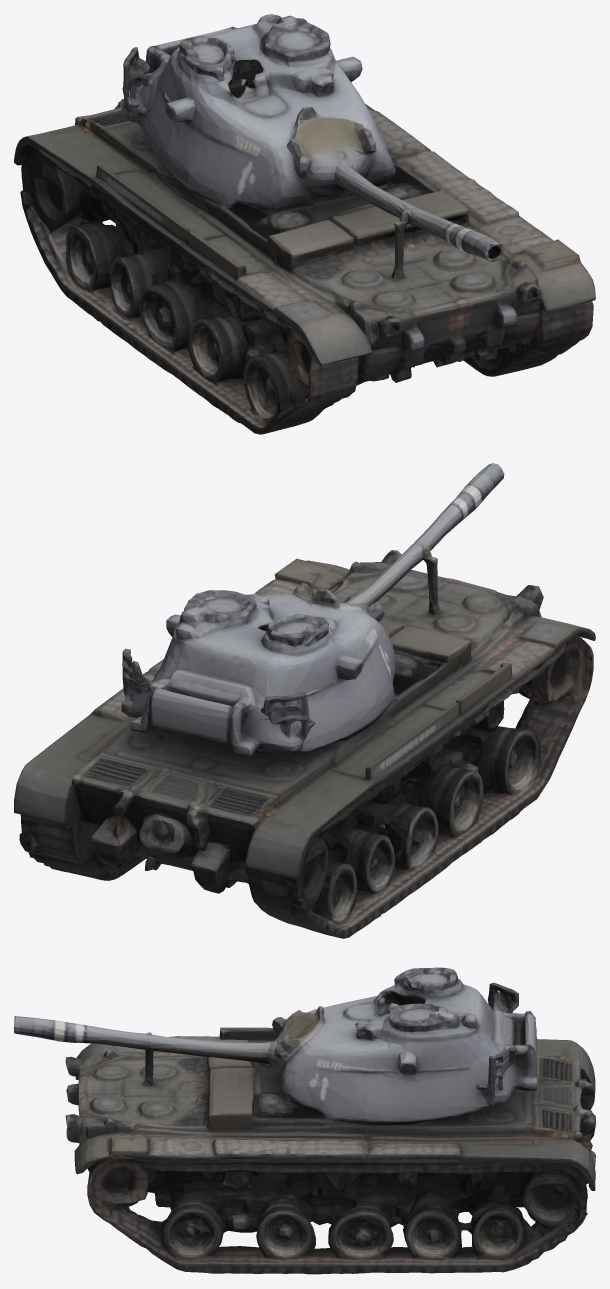
Rendered from m48_patton_tank.gltf.
The picture shows the model from 3 angles, top to bottom: view 1: azimuth 30°, elevation 25°; view 2: azimuth 150°, elevation 25°; view 3: azimuth 270°, elevation 25°; orthographic projection. The views are drawn at different scales.
Visible parts, largest first — view 1: world; view 2: world; view 3: world.
Part boxes in pixels (bbox=[...]): world: bbox=[14, 14, 595, 434]; world: bbox=[14, 463, 595, 938]; world: bbox=[14, 967, 595, 1274].
Size of the model in its own units: 0.4869 by 0.4274 by 1.
Materials: 1 (1 with a texture image).
